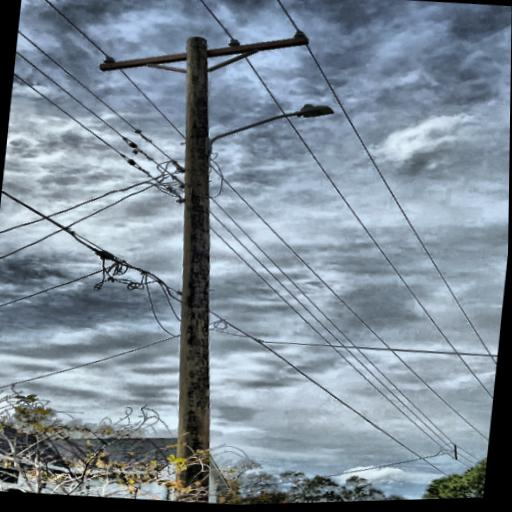insulator: (292, 29, 307, 40), (228, 37, 241, 49), (102, 55, 117, 65)
pole: (129, 25, 296, 508)
street light: (202, 92, 337, 169)
vegetation_encroachment: (139, 432, 247, 508)
